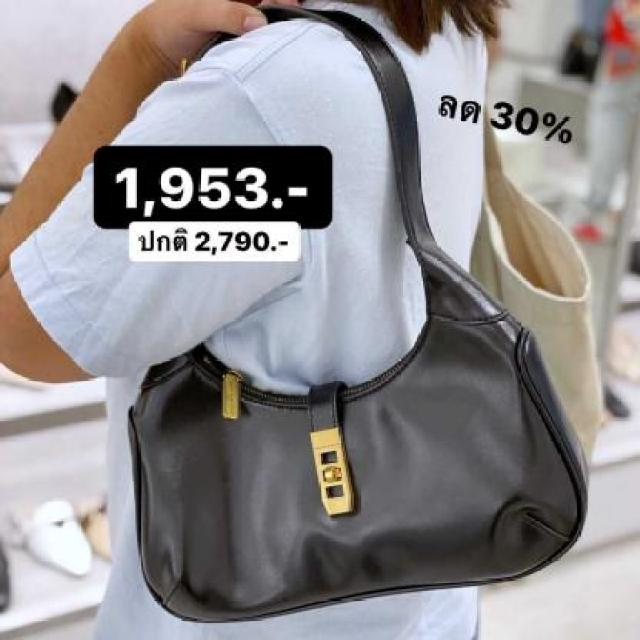Bag: (81, 0, 624, 603)
